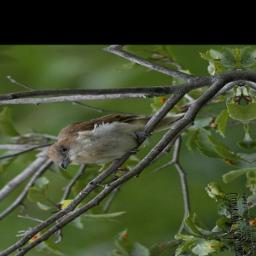Cuckoo: (41, 111, 193, 171)
